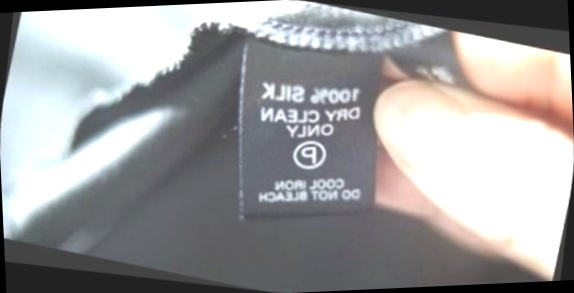dry_clean_any_solvent_except_trichloroethylene: (284, 131, 333, 177)
